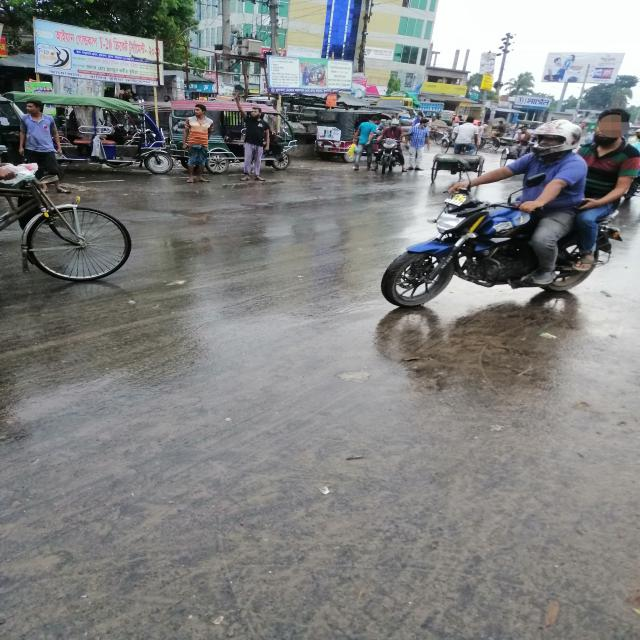Motorbike: (378, 157, 636, 312), (370, 135, 408, 175)
